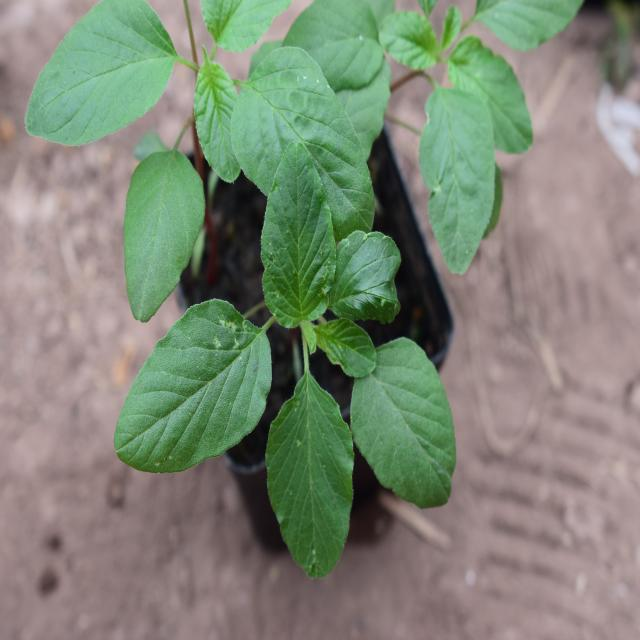pigweed: (135, 148, 461, 558)
